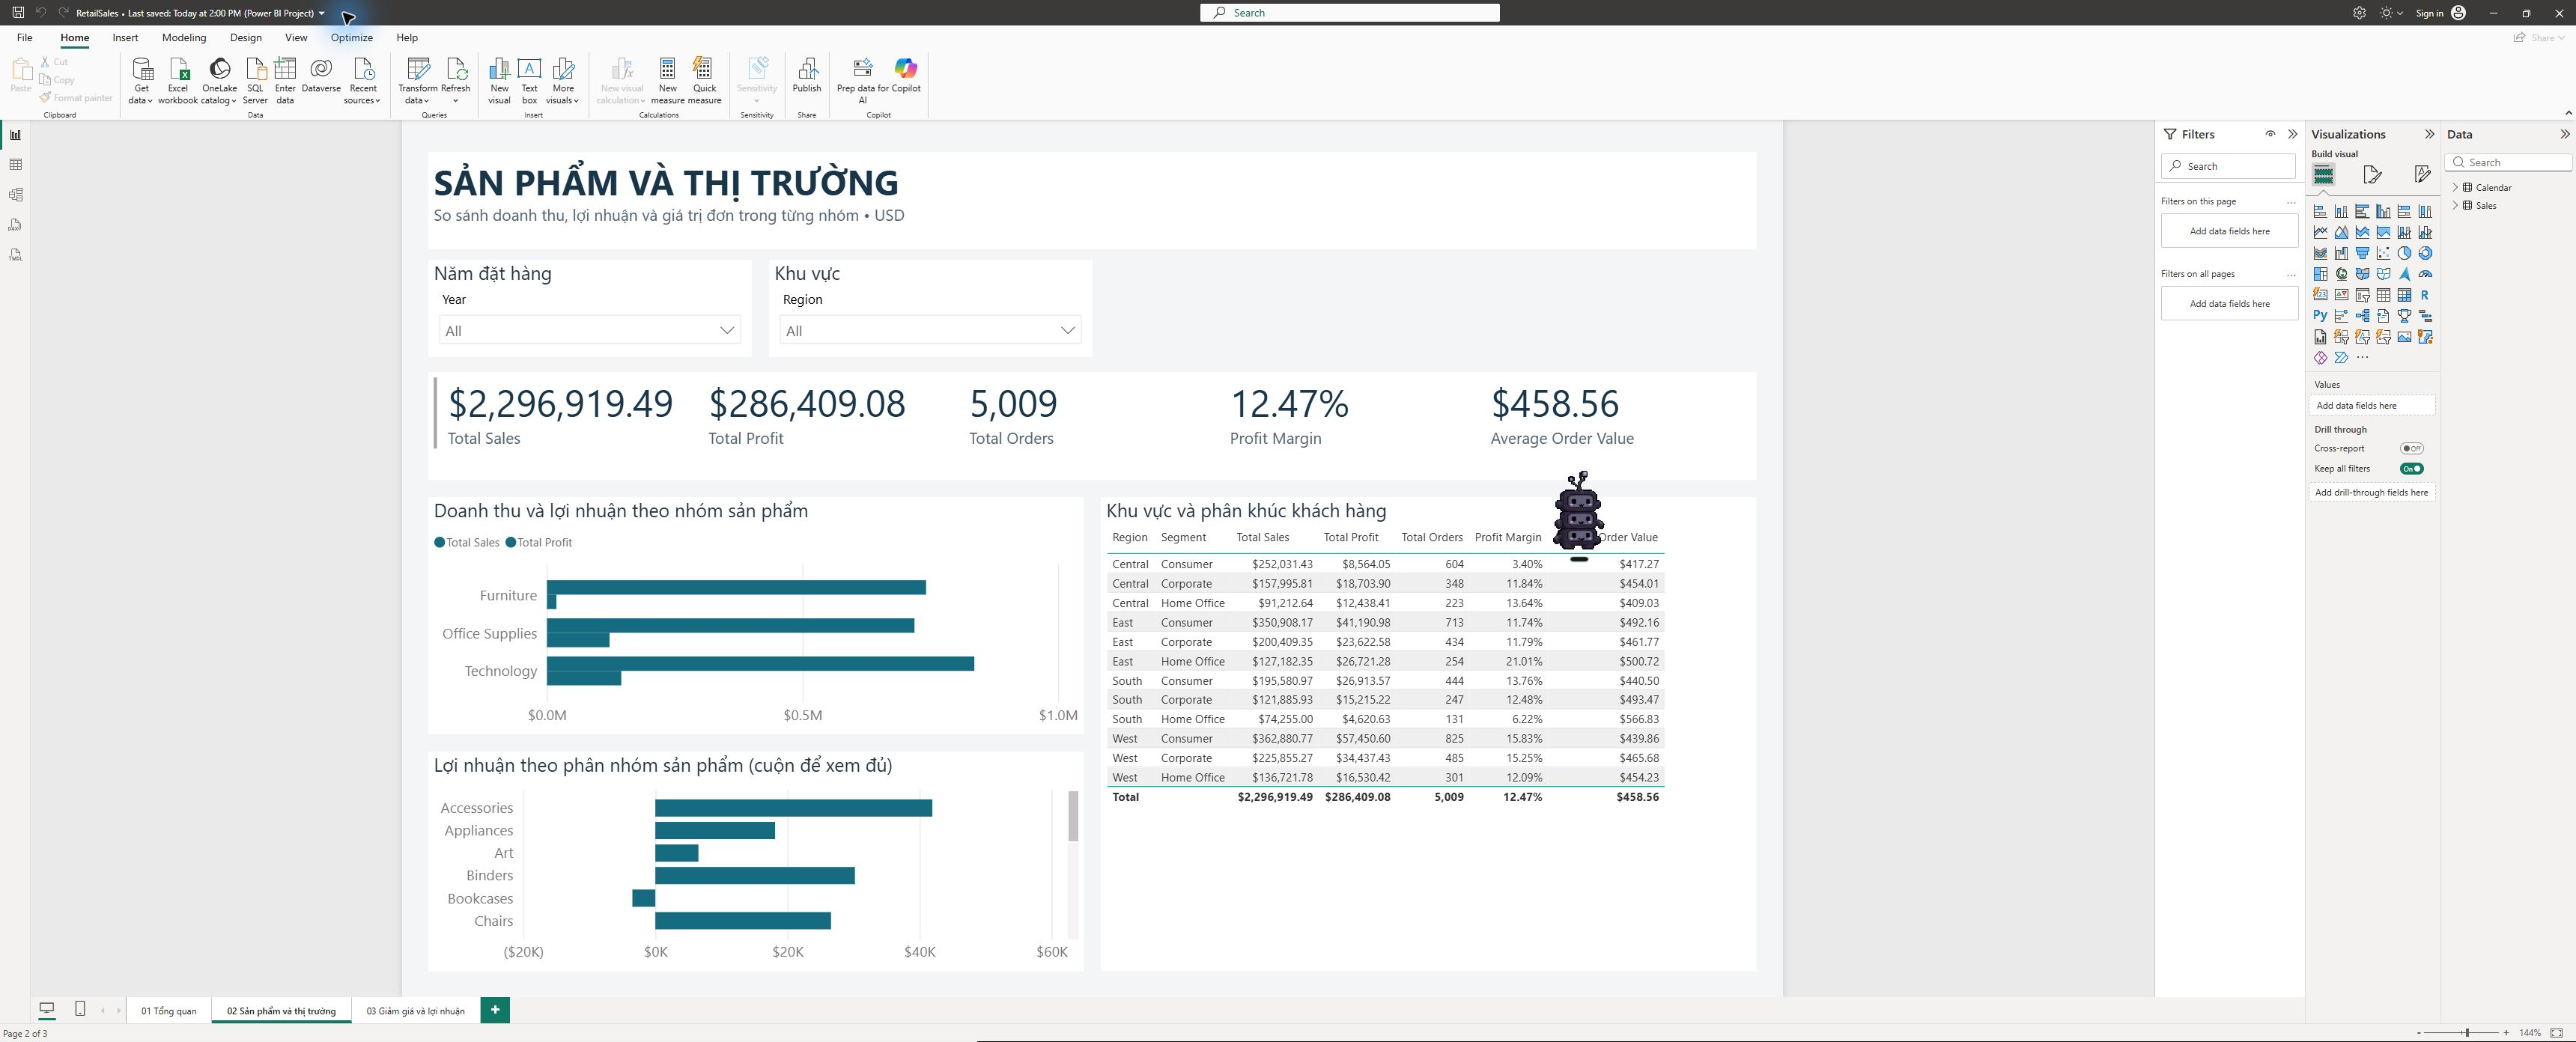

What the dashboard file says about the page in this screenshot:
{"tool":"powerbi","page":{"name":"02  Sản phẩm và thị trường","canvas":[1280,800],"ordinal":1},"visuals":[{"type":"textbox","box":[24,16,1232,90],"z":0},{"type":"slicer","title":"Năm đặt hàng","fields":{"Values":["Calendar.Year"]},"box":[24,116,300,90],"z":1},{"type":"slicer","title":"Khu vực","fields":{"Values":["Sales.Region"]},"box":[340,116,300,90],"z":2},{"type":"multiRowCard","fields":{"Values":["Sales.Total Sales","Sales.Total Profit","Sales.Total Orders","Sales.Profit Margin","Sales.Average Order Value"]},"box":[24,220,1232,100],"z":3},{"type":"clusteredBarChart","title":"Doanh thu và lợi nhuận theo nhóm sản phẩm","fields":{"Category":["Sales.Category"],"Y":["Sales.Total Sales","Sales.Total Profit"]},"box":[24,336,608,220],"z":4},{"type":"tableEx","title":"Khu vực và phân khúc khách hàng","fields":{"Values":["Sales.Region","Sales.Segment","Sales.Total Sales","Sales.Total Profit","Sales.Total Orders","Sales.Profit Margin","Sales.Average Order Value"]},"box":[648,336,608,440],"z":5},{"type":"clusteredBarChart","title":"Lợi nhuận theo phân nhóm sản phẩm (cuộn để xem đủ)","fields":{"Category":["Sales.Sub-Category"],"Y":["Sales.Total Profit"]},"box":[24,572,608,204],"z":6}]}

Visuals, with their boxes on the page's 1280x800 design canvas (x1, y1, x2, y2). These are canvas units, not pixel positions in the 2576x1042 screenshot, which may show the page scaled, cropped or inside an application window:
textbox: <bbox>24, 16, 1256, 106</bbox>
"Năm đặt hàng" slicer: <bbox>24, 116, 324, 206</bbox>
"Khu vực" slicer: <bbox>340, 116, 640, 206</bbox>
multiRowCard - Sales.Total Sales x Sales.Total Profit: <bbox>24, 220, 1256, 320</bbox>
"Doanh thu và lợi nhuận theo nhóm sản phẩm" clusteredBarChart: <bbox>24, 336, 632, 556</bbox>
"Khu vực và phân khúc khách hàng" tableEx: <bbox>648, 336, 1256, 776</bbox>
"Lợi nhuận theo phân nhóm sản phẩm (cuộn để xem đủ)" clusteredBarChart: <bbox>24, 572, 632, 776</bbox>
